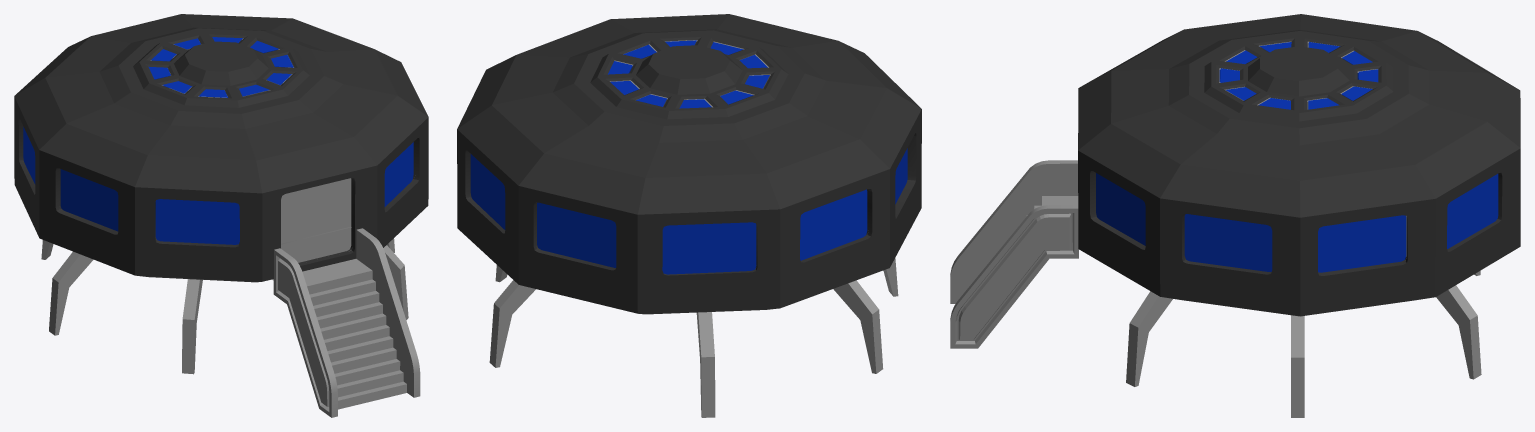
The model's file is HomeA.FBX.
The picture shows the model from 3 angles, left to right: view 1: azimuth 30°, elevation 25°; view 2: azimuth 150°, elevation 25°; view 3: azimuth 270°, elevation 25°; orthographic projection. The views are drawn at different scales.
Visible parts, largest first — view 1: HomeA_MainExterior, HomeA_SupportLadder, HomeA_Windows; view 2: HomeA_MainExterior, HomeA_Windows, HomeA_SupportLadder; view 3: HomeA_MainExterior, HomeA_SupportLadder, HomeA_Windows.
Part boxes in pixels (x1,y1,x2,y2): HomeA_MainExterior: [14, 14, 428, 282]; HomeA_SupportLadder: [41, 178, 420, 417]; HomeA_Windows: [23, 37, 413, 244]; HomeA_MainExterior: [457, 14, 921, 314]; HomeA_Windows: [470, 40, 907, 274]; HomeA_SupportLadder: [489, 76, 898, 417]; HomeA_MainExterior: [1078, 14, 1520, 316]; HomeA_SupportLadder: [950, 160, 1481, 417]; HomeA_Windows: [1096, 42, 1498, 272].
Size of the model in its own units: 10.6 by 6.6 by 13.02.
